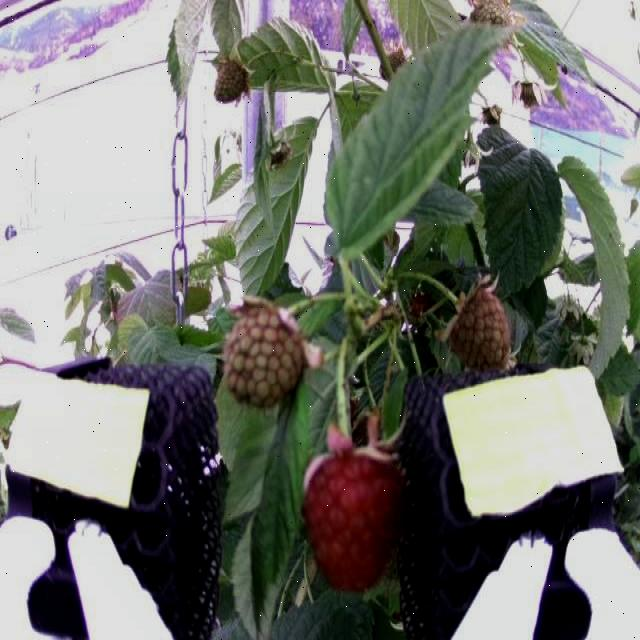Riped berries: (300, 431, 408, 585)
